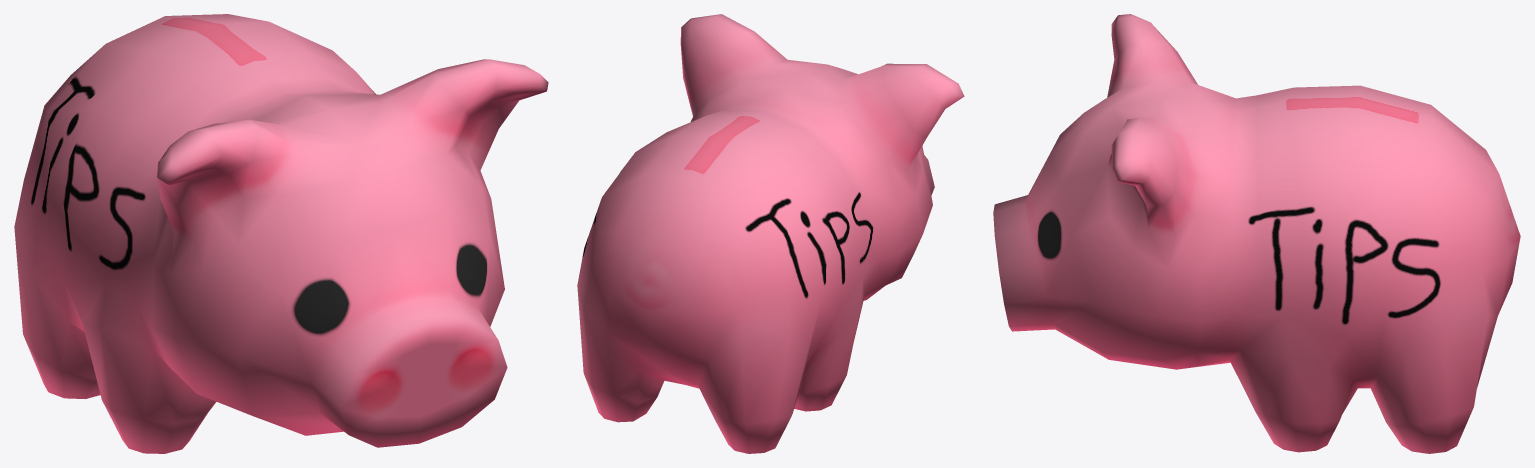
File: piggy.glb
The picture shows the model from 3 angles, left to right: view 1: azimuth 30°, elevation 25°; view 2: azimuth 150°, elevation 25°; view 3: azimuth 270°, elevation 25°; orthographic projection. The views are drawn at different scales.
Parts seen in each view (by area): view 1: PiggyBank; view 2: PiggyBank; view 3: PiggyBank.
Part boxes in pixels (x1,y1,x2,y2): PiggyBank: [14, 14, 548, 453]; PiggyBank: [577, 14, 964, 453]; PiggyBank: [993, 14, 1520, 453].
Size of the model in its own units: 0.1717 by 0.1678 by 0.2419.
Materials: 1 (1 with a texture image).
